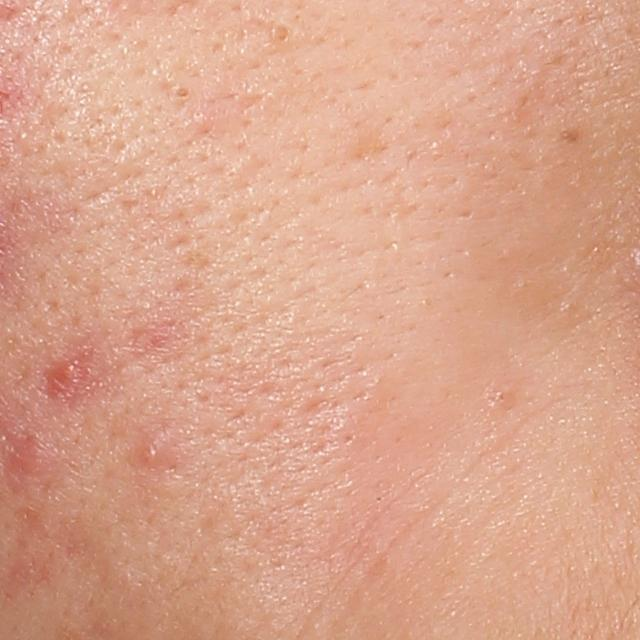comedo: (265, 16, 297, 46), (168, 80, 193, 100)
papule: (128, 433, 174, 481), (50, 360, 77, 390)
